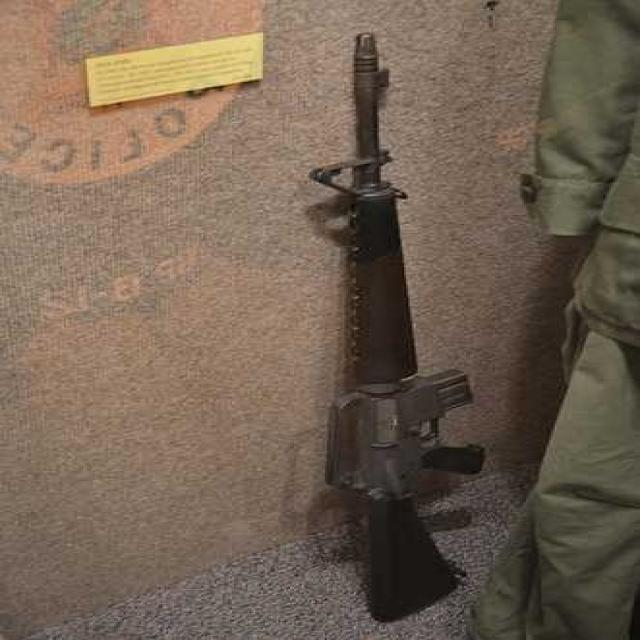Rifle: (300, 21, 500, 630)
